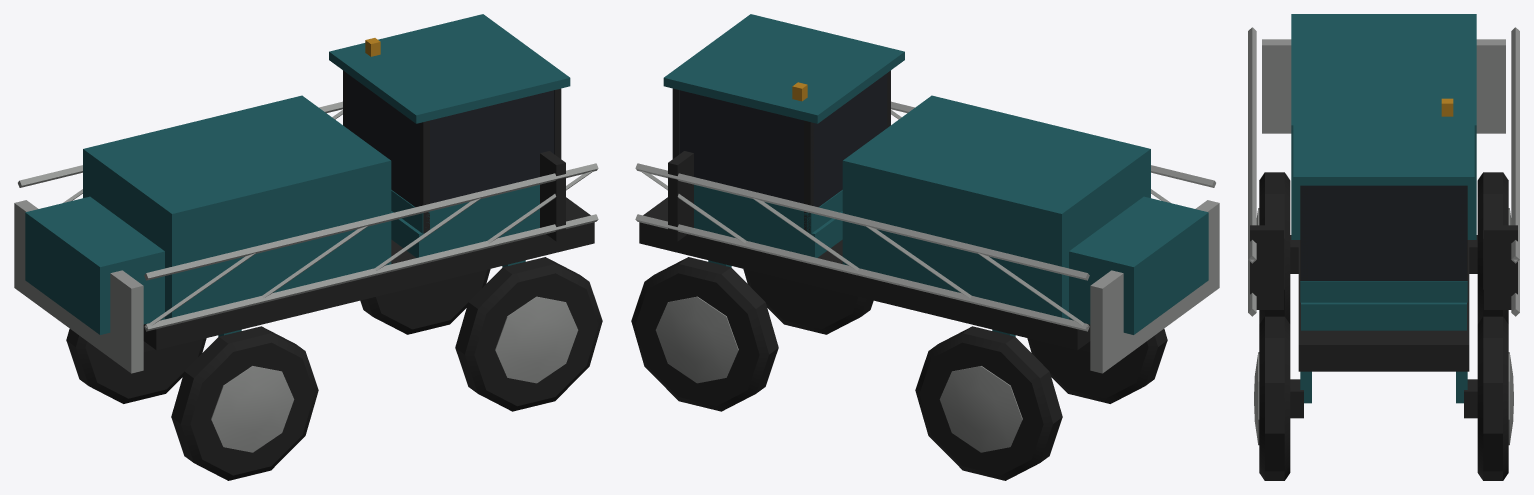
File: SM_Prop_farm_sprayer_0_LOD1.glb
3 renders of one model, left to right at view 1: azimuth 30°, elevation 25°; view 2: azimuth 150°, elevation 25°; view 3: azimuth 270°, elevation 25°, orthographic. The views are drawn at different scales.
Parts seen in each view (by area): view 1: SM_Prop_farm_sprayer_0_LOD1; view 2: SM_Prop_farm_sprayer_0_LOD1; view 3: SM_Prop_farm_sprayer_0_LOD1.
Part boxes in pixels (x1,y1,x2,y2): SM_Prop_farm_sprayer_0_LOD1: (14,14,602,480); SM_Prop_farm_sprayer_0_LOD1: (631,14,1219,480); SM_Prop_farm_sprayer_0_LOD1: (1248,14,1519,480).
Bounding box in the file's own units: 6.05 × 3.76 × 2.79.
